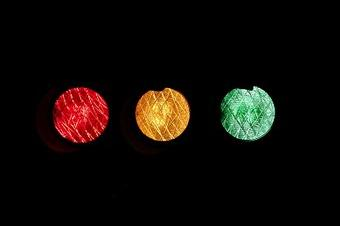trafic: (42, 83, 288, 148)
